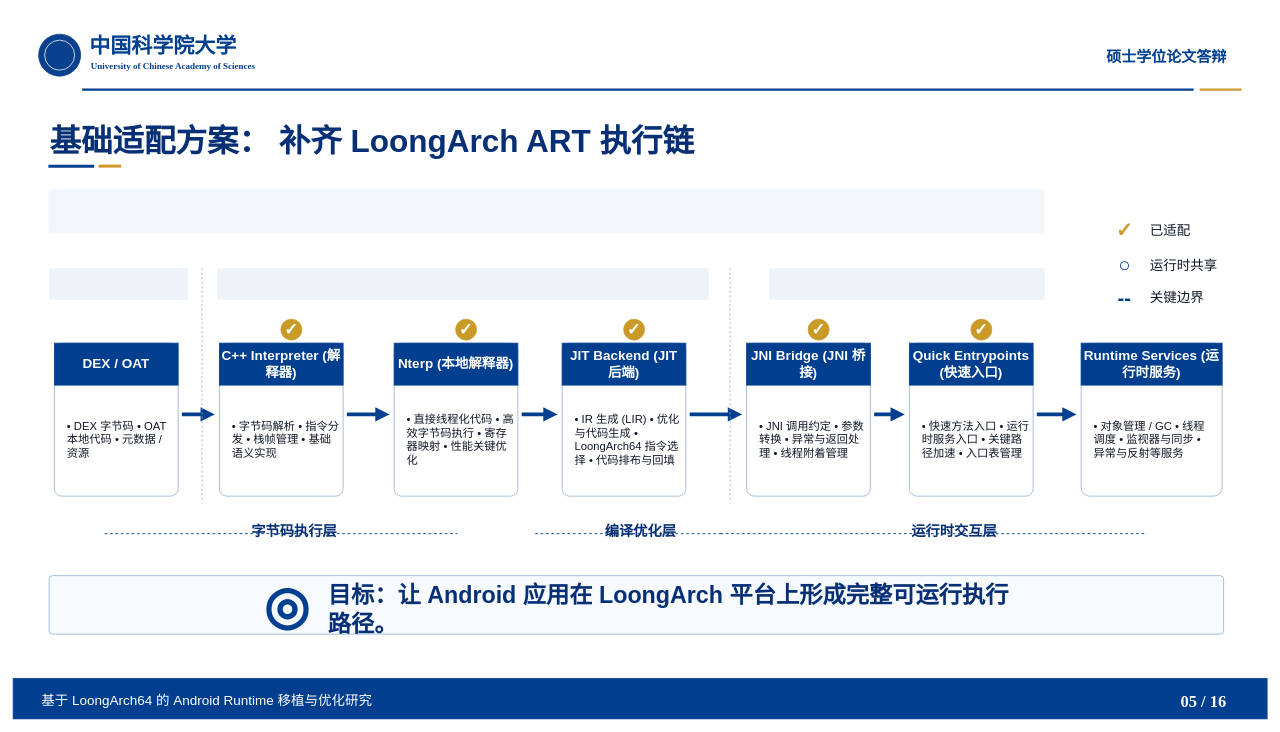
Image size: 1280x732. Some labels were removed from this diagram. Here are the shapes that lost their labels. From the top down, the box of each, then its label:
(44, 39, 75, 70): UCAS
(48, 189, 1044, 232): 本文以执行路径为主线，补齐 Android Runtime 在 LoongArch64 平台运行所需的关键模块，形成完整、可执行、可优化的运行链路。
(49, 268, 188, 299): 应用代码
(217, 268, 709, 299): ART 执行引擎
(769, 268, 1045, 299): LoongArch64 后端
